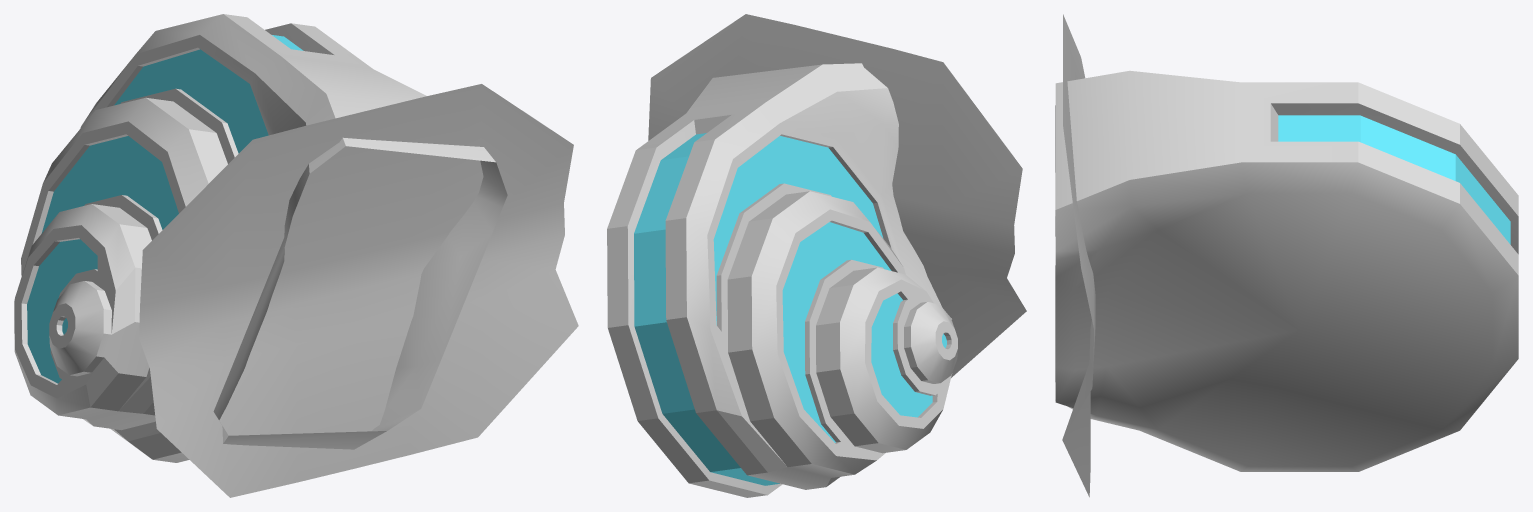
Rendered from Mod_Backplate_Snail1.fbx.
The picture shows the model from 3 angles, left to right: view 1: azimuth 30°, elevation 25°; view 2: azimuth 150°, elevation 25°; view 3: azimuth 270°, elevation 25°; orthographic projection. The views are drawn at different scales.
Visible parts, largest first — view 1: Mod_BackPlate_Snail1; view 2: Mod_BackPlate_Snail1; view 3: Mod_BackPlate_Snail1.
Boxes of the visible parts, x1,y1,x2,y2 form: Mod_BackPlate_Snail1: (14,14,578,497); Mod_BackPlate_Snail1: (607,14,1026,497); Mod_BackPlate_Snail1: (1055,14,1518,497).
Bounding box in the file's own units: 328 × 303 × 303.
